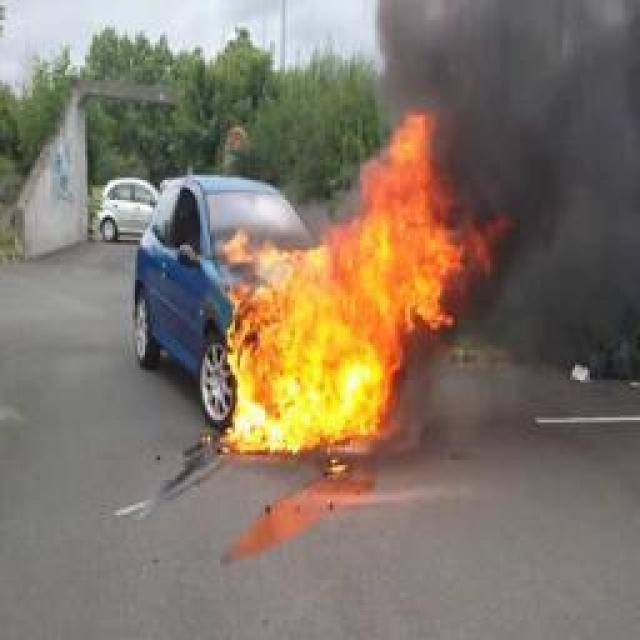Fire: (218, 102, 504, 458)
